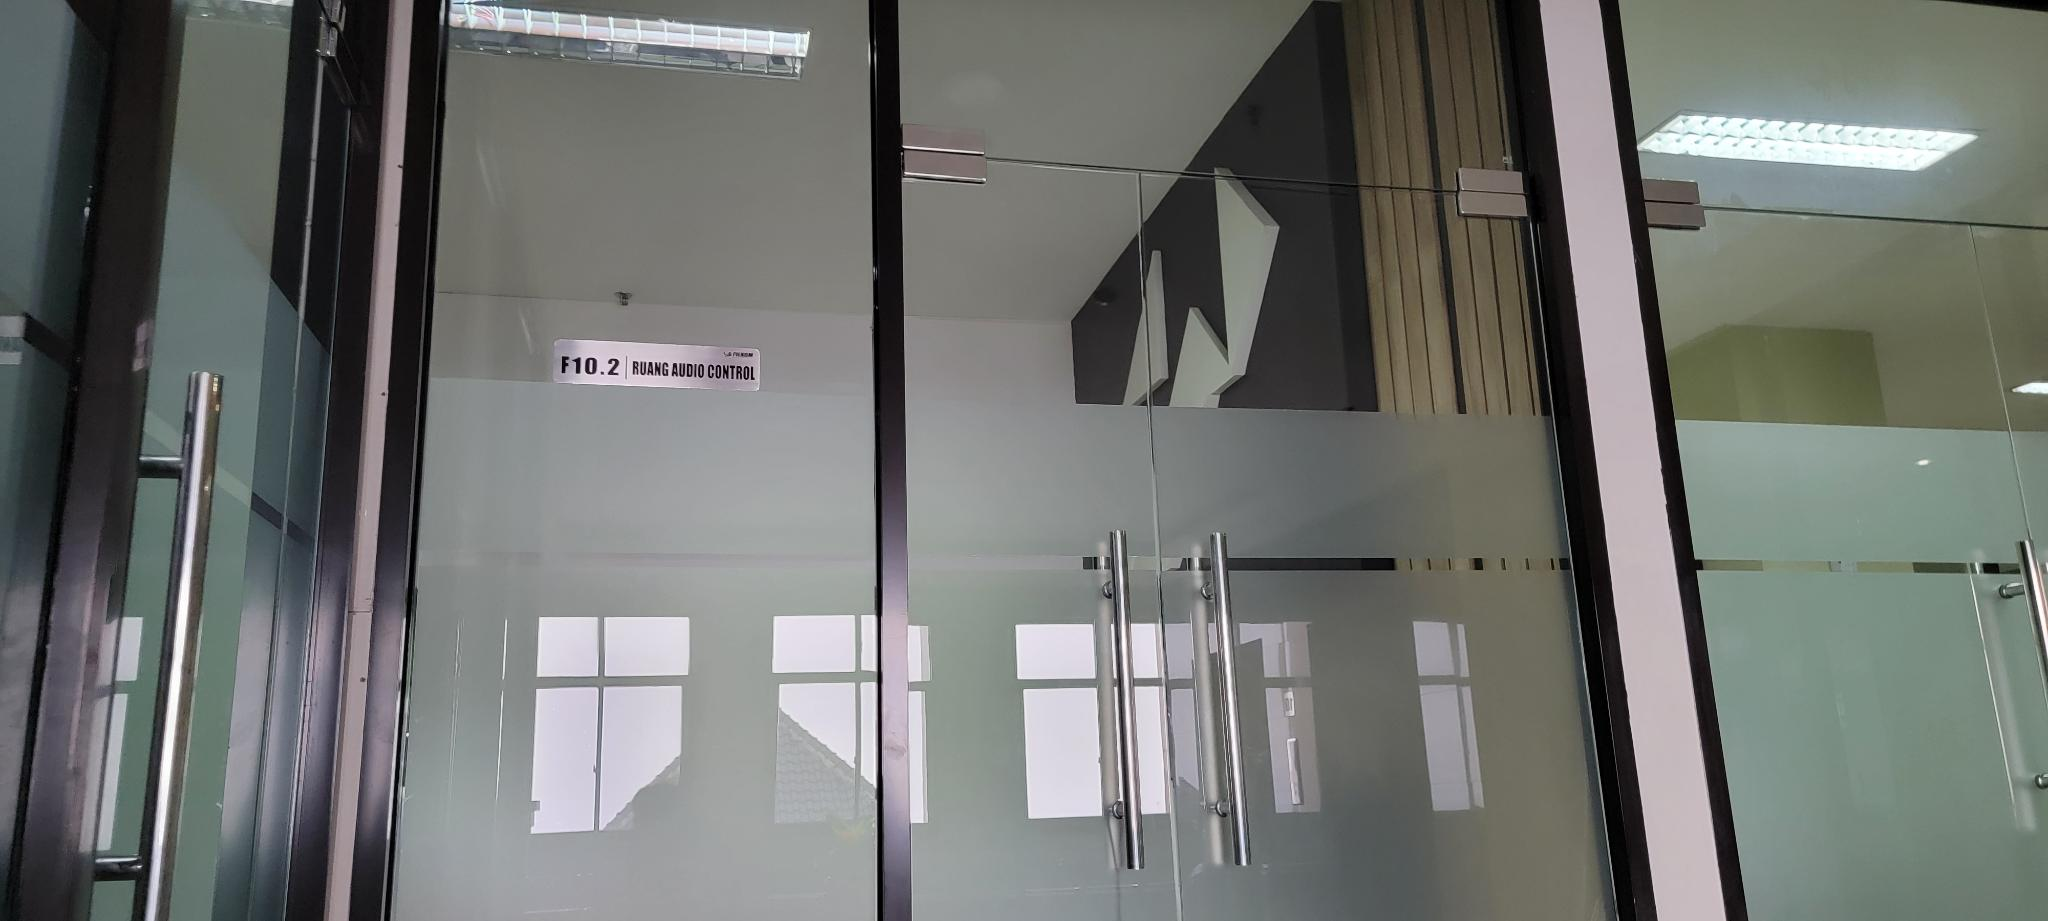plate: (551, 337, 763, 392)
